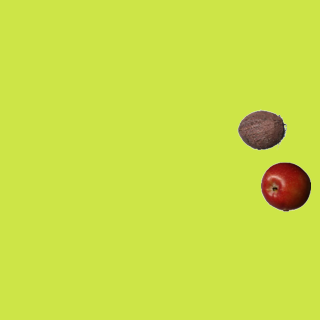Apple Braeburn: (260, 161, 310, 211)
Cocos: (236, 104, 286, 154)
